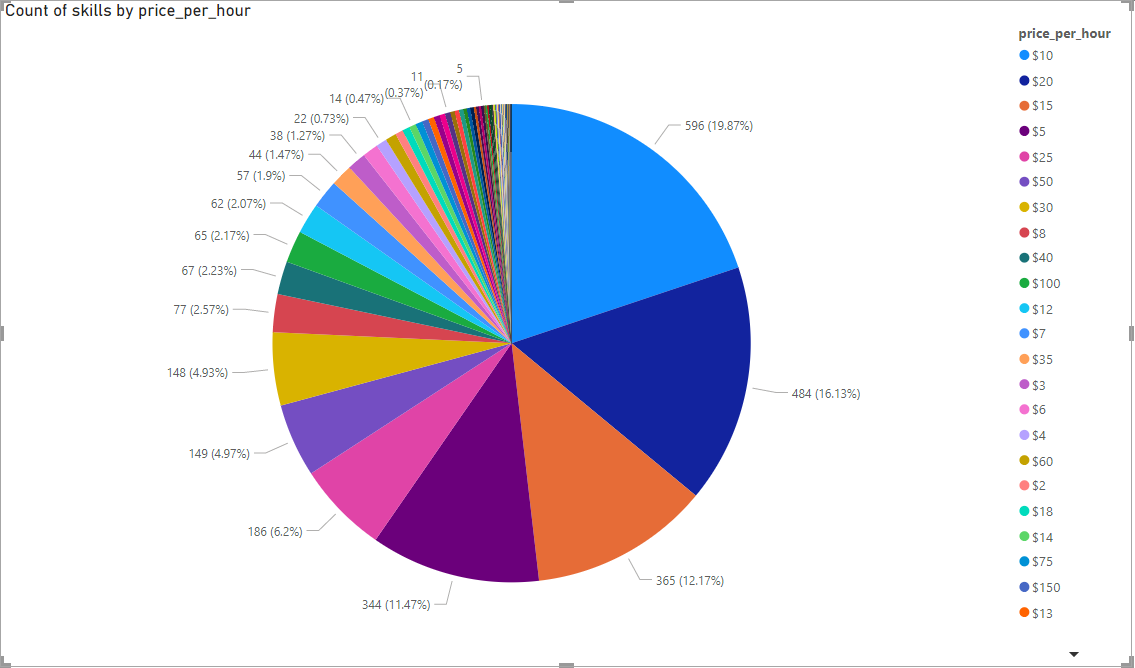

The dashboard page shown, as its layout file describes it:
{"tool":"powerbi","page":{"name":"Page 5","canvas":[1280,720],"ordinal":4},"visuals":[{"type":"pieChart","fields":{"Y":["CountNonNull(MiddleEastFreelancers_cleaning.skills)"],"Category":["MiddleEastFreelancers_cleaning.price_per_hour"]},"box":[10,0,1132.5,667.5],"z":0}]}

Visuals, with their boxes on the page's 1280x720 design canvas (x1, y1, x2, y2). These are canvas units, not pixel positions in the 1135x668 screenshot, which may show the page scaled, cropped or inside an application window:
pieChart - CountNonNull(MiddleEastFreelancers_cleaning.skills) x MiddleEastFreelancers_cleaning.price_per_hour: pyautogui.locateOnScreen(10, 0, 1142, 668)
